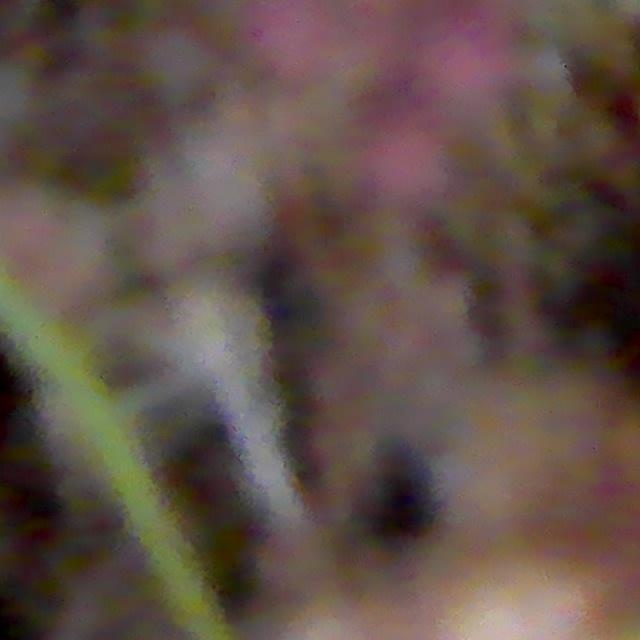SeaGrape: (419, 17, 541, 98), (368, 95, 457, 201), (260, 6, 349, 103)
